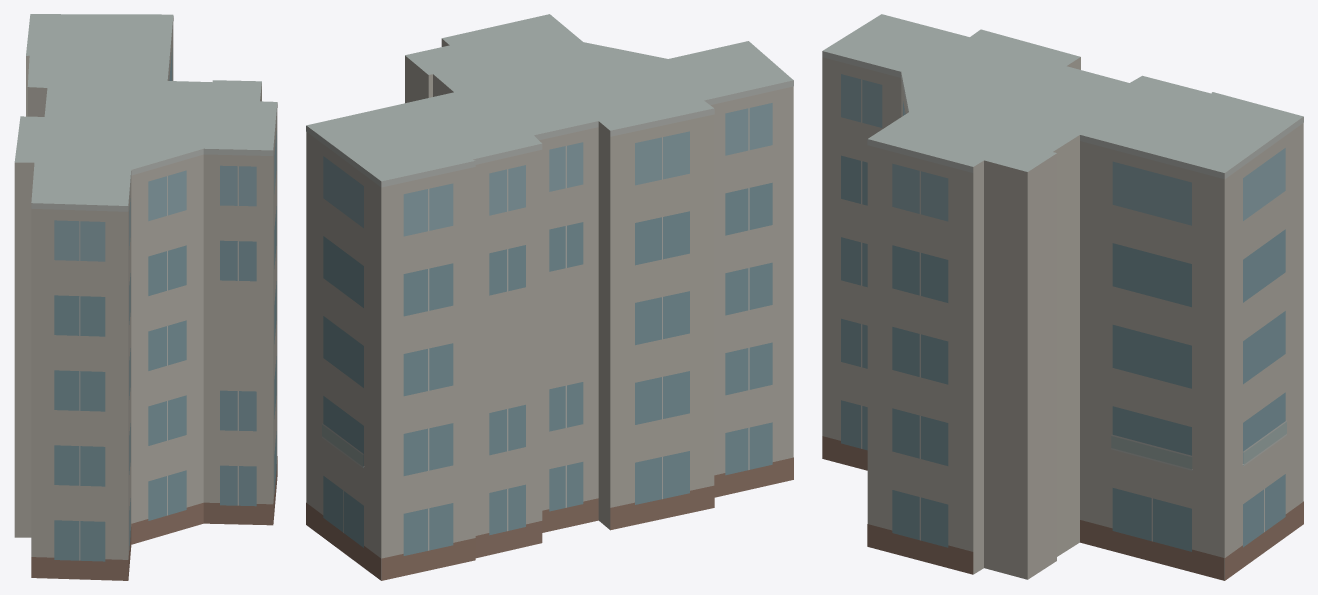
Rendered from survey-upis-32514715.glb.
The picture shows the model from 3 angles, left to right: view 1: azimuth 30°, elevation 25°; view 2: azimuth 150°, elevation 25°; view 3: azimuth 270°, elevation 25°; orthographic projection. The views are drawn at different scales.
Visible parts, largest first — view 1: survey-upis-32514715.tmp; view 2: survey-upis-32514715.tmp; view 3: survey-upis-32514715.tmp.
Part boxes in pixels (left/top/right/bottom): survey-upis-32514715.tmp: left=14, top=14, right=277, bottom=580; survey-upis-32514715.tmp: left=306, top=14, right=793, bottom=580; survey-upis-32514715.tmp: left=822, top=14, right=1303, bottom=580.
Bounding box in the file's own units: 13.4 × 16 × 17.13.
